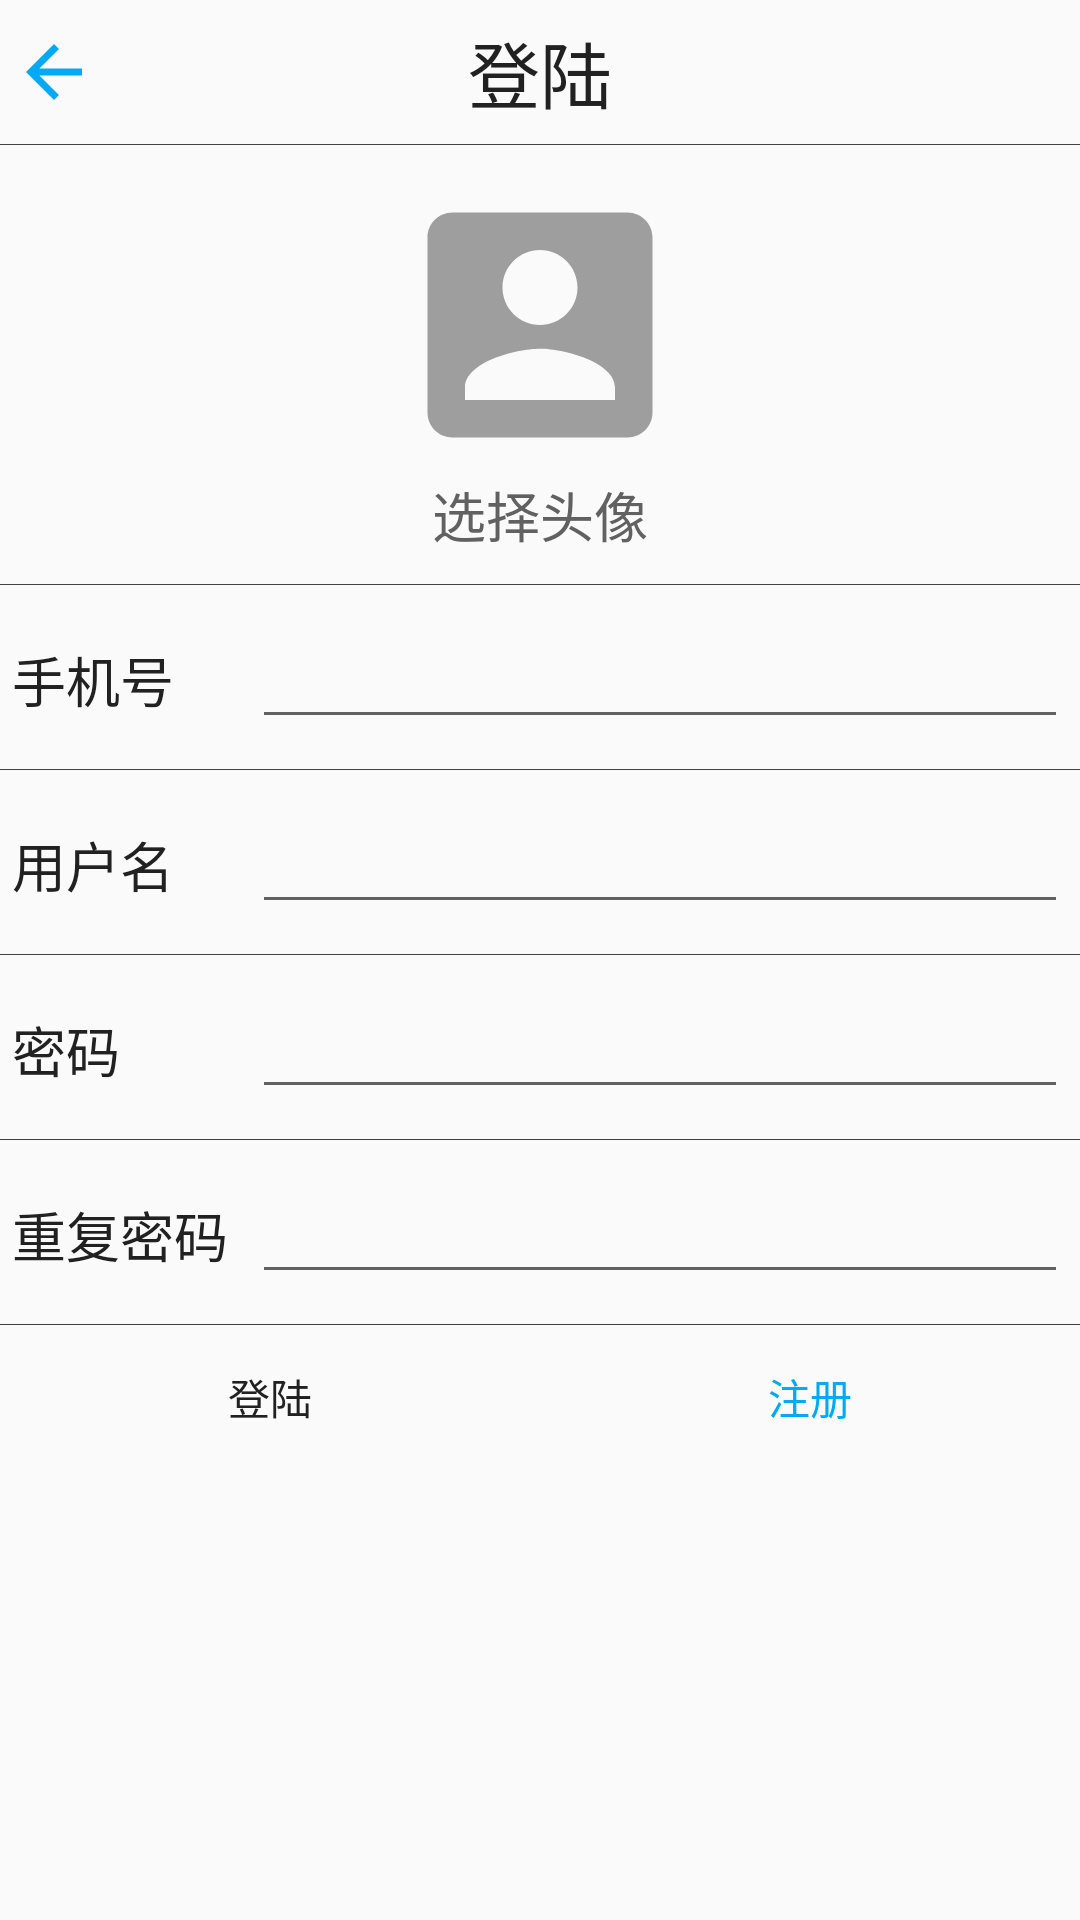

Icon click points for this 1080*1920 phone screenshot, format (x=x, y=y):
account: (x=540, y=325)
back: (x=54, y=72)
